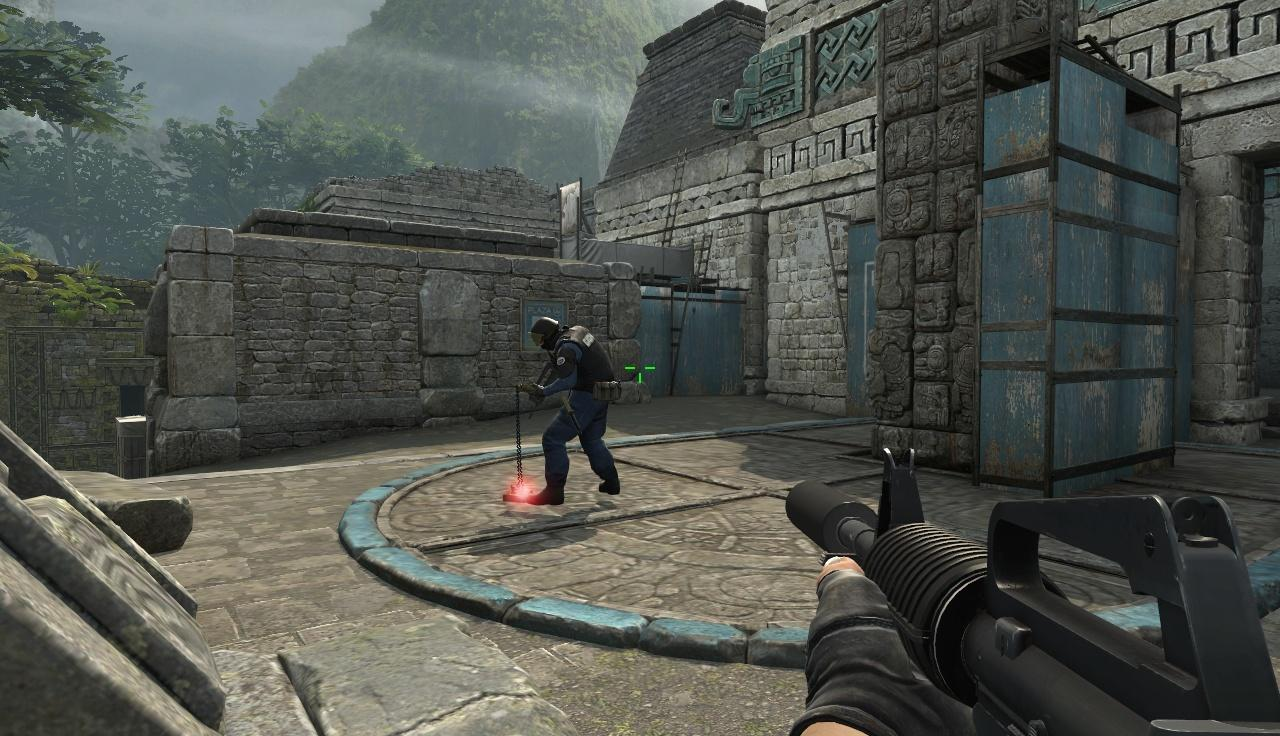ct: (532, 313, 608, 504)
cthead: (533, 316, 566, 347)
rifle: (792, 445, 1280, 731)
